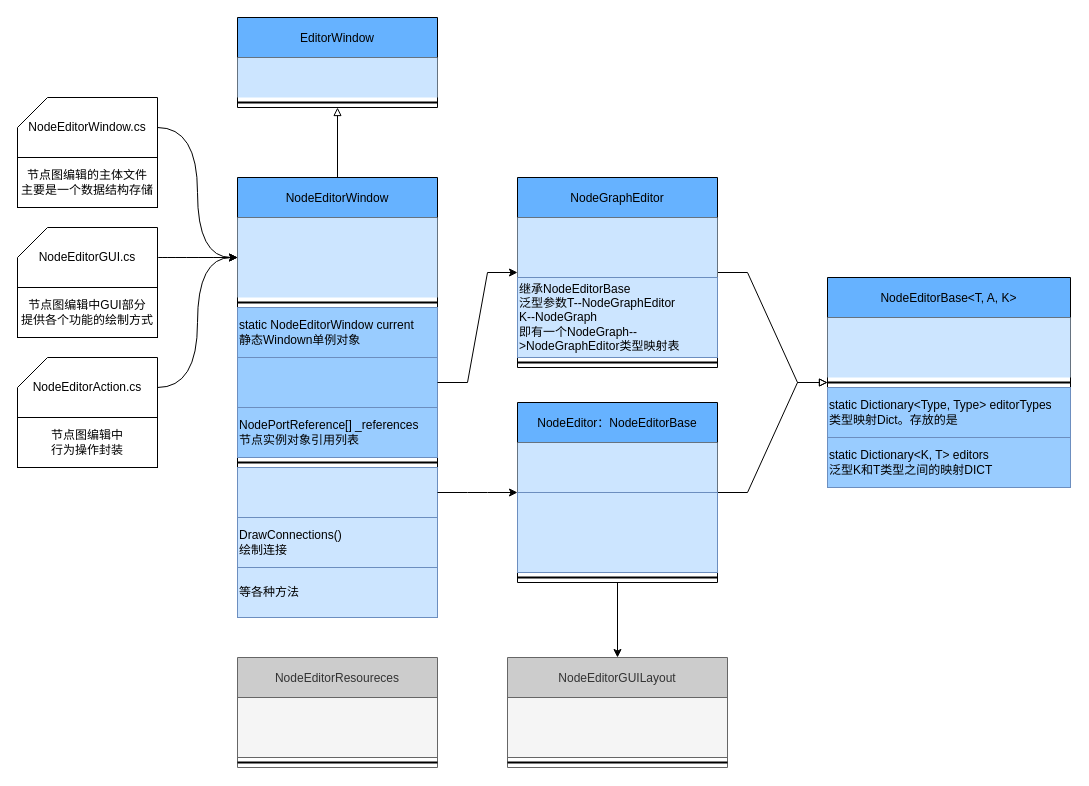
Some shapes in this 1089 by 786 pixel diagram are drawn without their labels. Each missing label, with the centre of its shape:
DrawNode() 绘制节点: point 337,492
NodeGraphEditor graphEditor 节点图编辑器实例: point 337,382
引擎的编辑窗口基类: point 337,77
继承NodeEditorBase 泛型参数T--NodeEditor K--Node 即有一个Node-->NodeEditor类型映射表: point 617,532
节点图编辑器的数据存储类 存储了一系列UI显示用的资源文件 GUI的显示风格等: point 337,727
节点图编辑器窗口类型封装 采用Partial组合，由左侧各C#文件 组合而成: point 617,247
节点图编辑器窗口类型封装 采用Partial组合，由左侧各C#文件 组合而成。: point 337,257
节点编辑基类，泛型基类 从子类来看主要提供 序列化类型--编辑器显示类型的映射关系: point 948,347
节点编辑类，提供节点绘制样式 可以认为这个类型实例就是节点图中 绘制出来的GUI对象。: point 617,467
静态类，提供对NodePort的绘制方式 主要就是借助Unity本身的绘制方式 将对应SerializedProperty绘制在节点中: point 617,727
